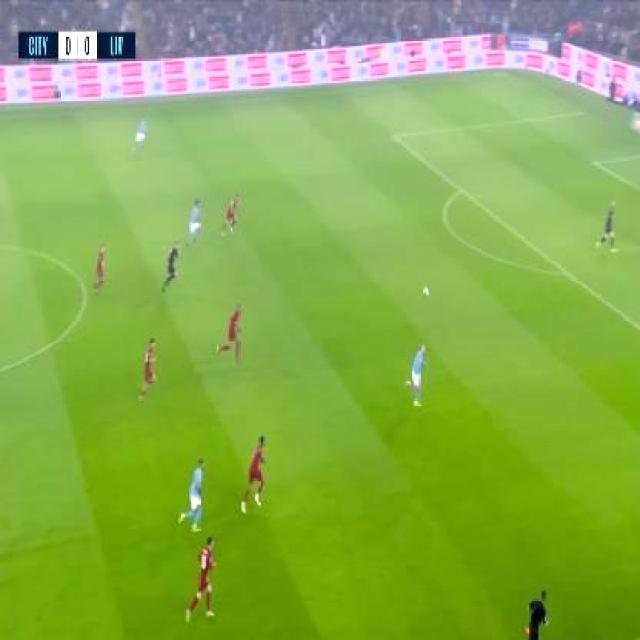bigarea_top_inner: (385, 126, 400, 146)
bigarea_top_outter: (575, 105, 591, 118)
bottom_arc_area_intersection: (558, 262, 574, 283)
corner: (491, 63, 514, 80)
smallarea_top_inner: (584, 152, 602, 172)
top_arc_area_intersection: (452, 178, 468, 200)
